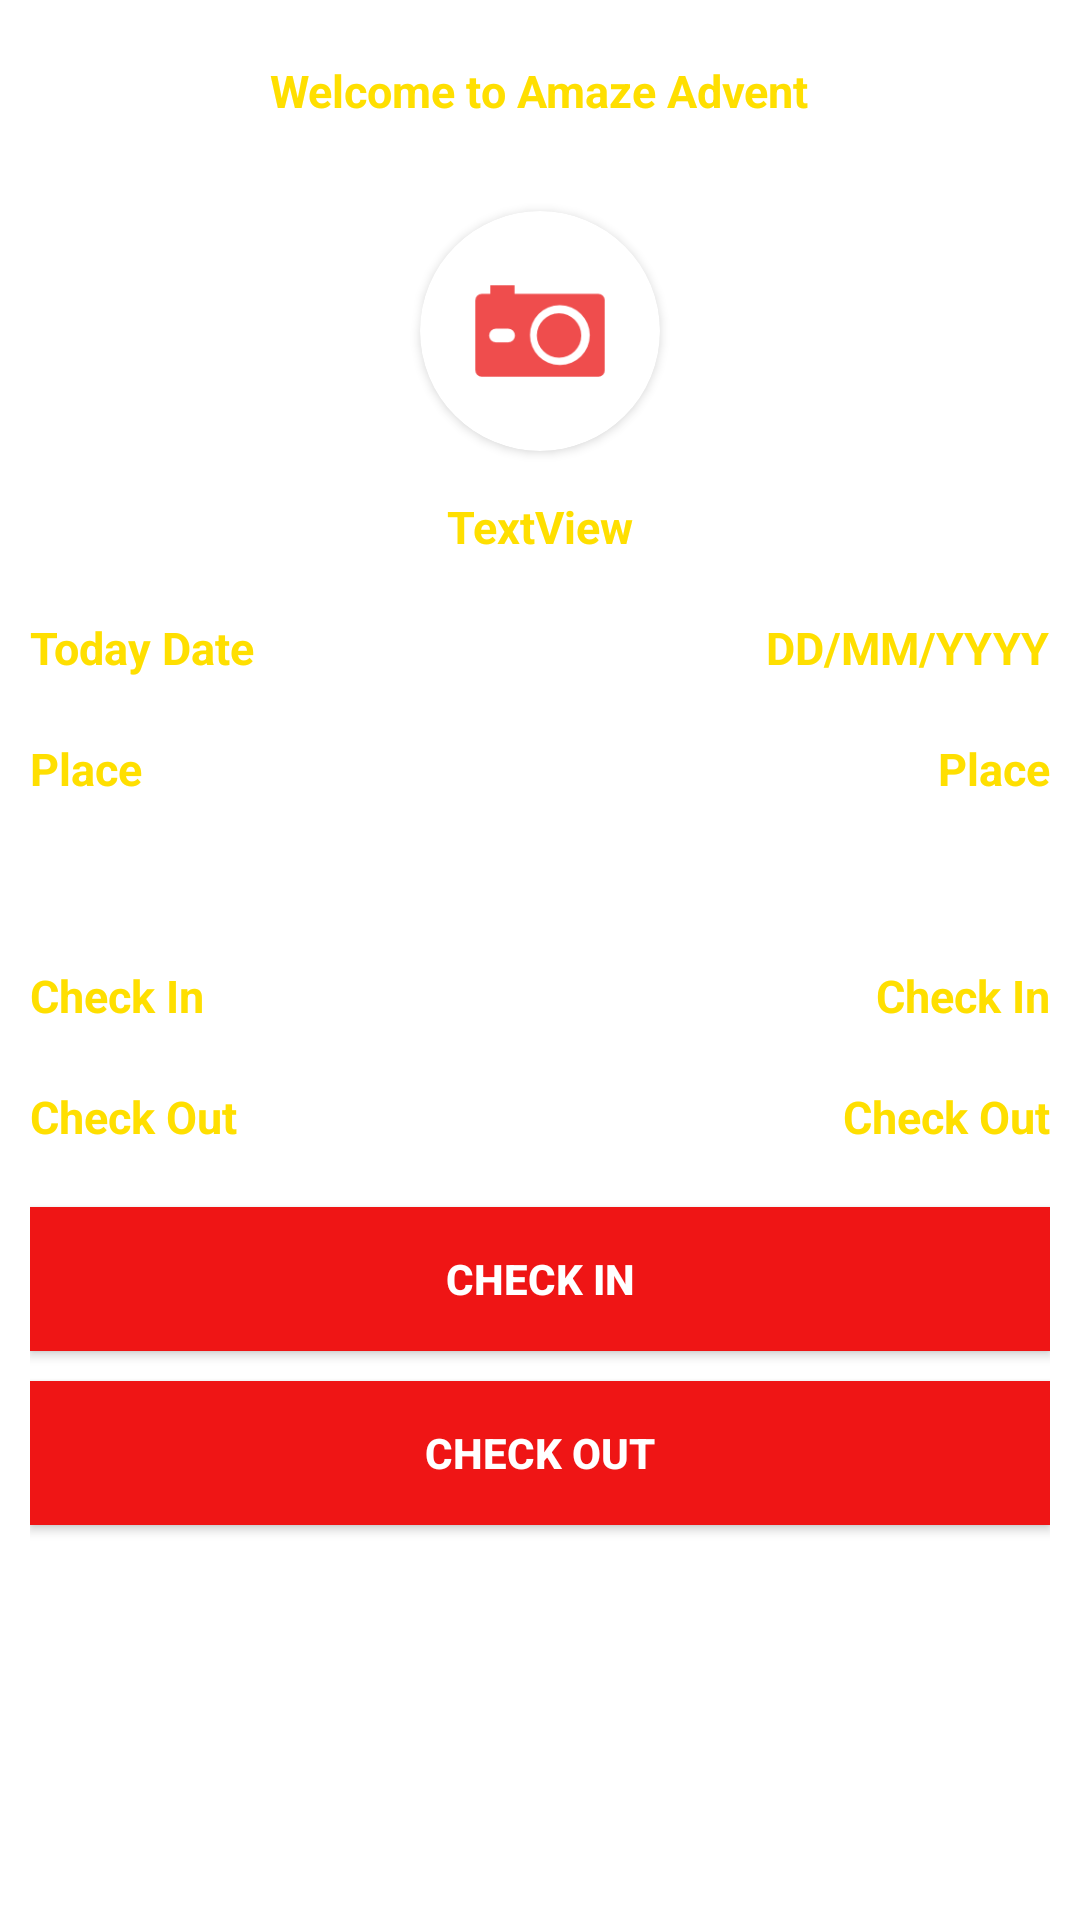

Named icons in this screenshot (1080w x 1920h) and their bounding boxes, (x1, y1, x2, y2):
Your Photo: (475, 285, 605, 377)
